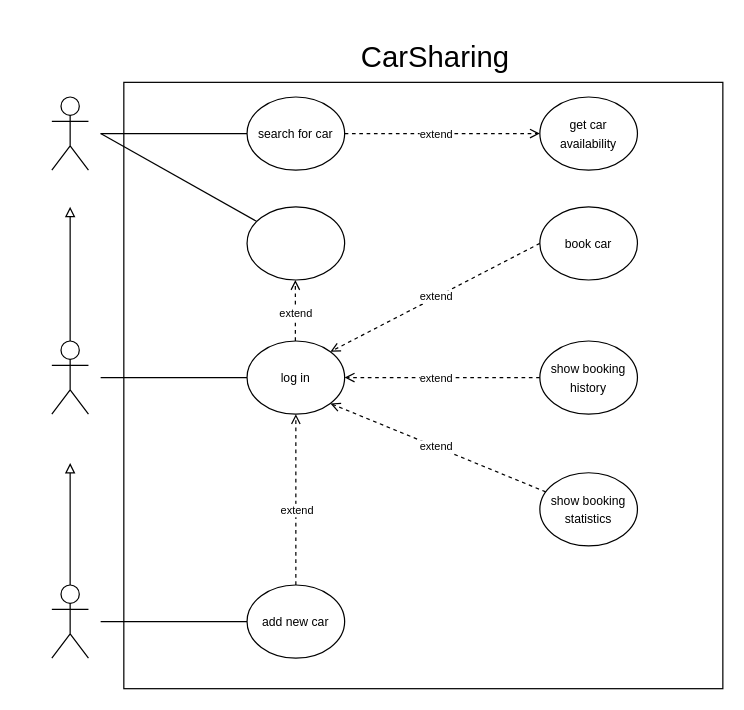
Image size: 744x710. Some labels were removed from this diagram. Here are the shapes that lost their labels. From the top down, the centre of each, then its label:
the point at 69,133: user
the point at 295,243: register
the point at 69,377: registered user
the point at 69,621: admin
